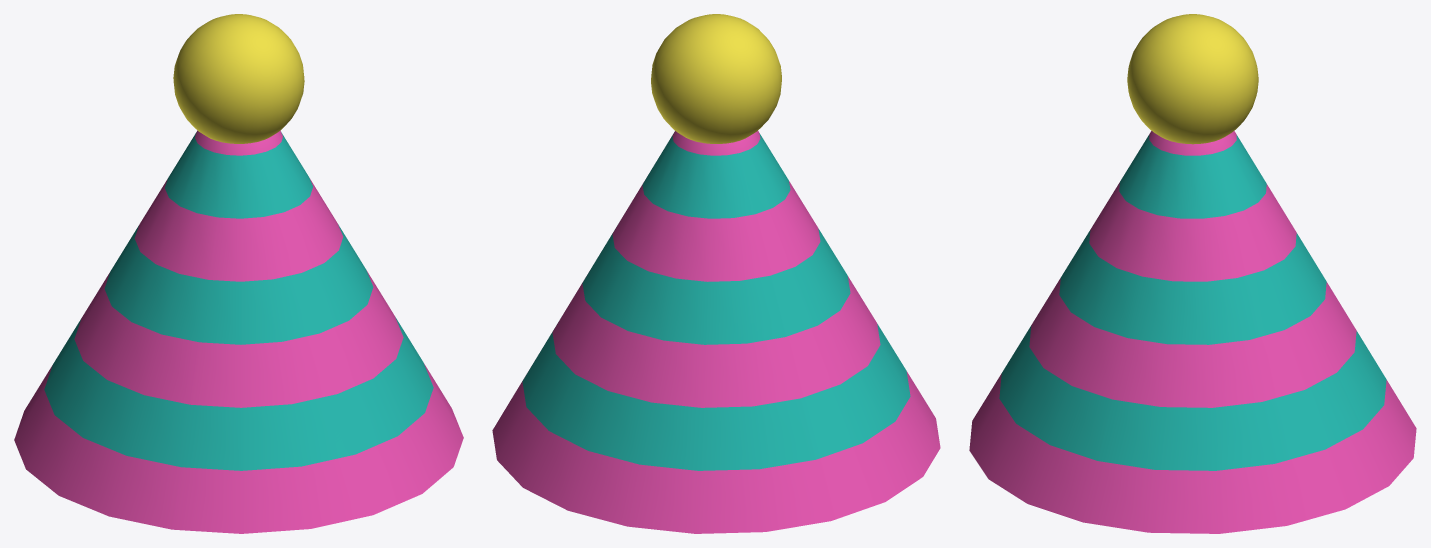
Rendered from party_hat.fbx.
3 views of the same model, side by side, from view 1: azimuth 30°, elevation 25°; view 2: azimuth 150°, elevation 25°; view 3: azimuth 270°, elevation 25° (orthographic).
Parts seen in each view (by area): view 1: Sphere; view 2: Sphere; view 3: Sphere.
Part boxes in pixels (box(x1,y1,x2,y2)): Sphere: box(14, 14, 463, 533); Sphere: box(492, 14, 940, 533); Sphere: box(969, 14, 1416, 533).
Size of the model in its own units: 108 by 111 by 108.
1 material, 1 textured.
